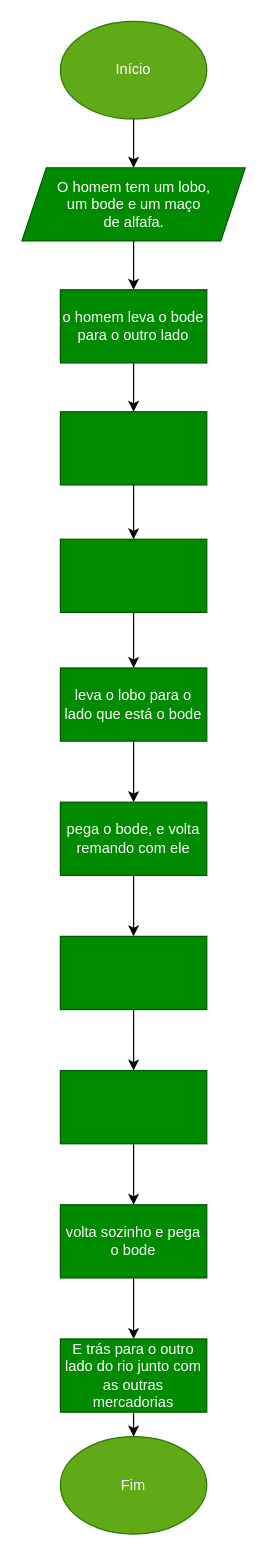
Some shapes in this 266 by 1556 pixel diagram are drawn without their labels. The centre of each missing label's shape, as x and y in pixels:
deixa o bode do outro lado: point (133, 448)
deixa o bode no início e pegue o maço de alfafa: point (133, 972)
volta para onde o lobo está e deixa o maço de alfafa: point (133, 1106)
volta remando para o início e pega o lobo: point (133, 575)
